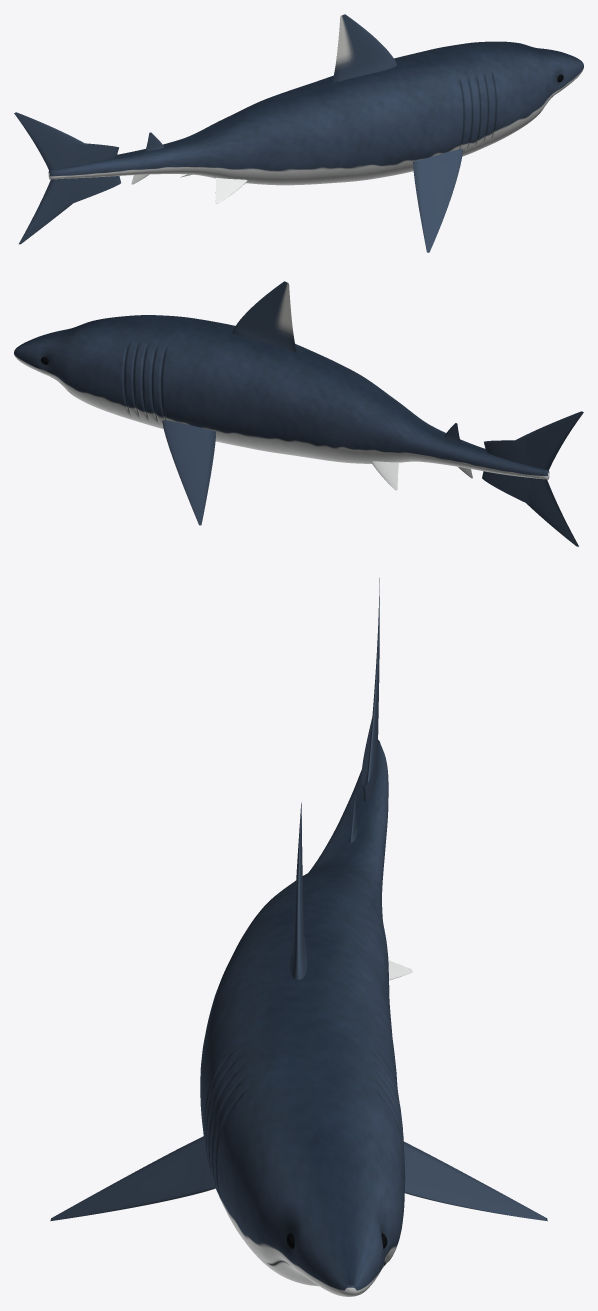
Rendered from porbeagle.glb.
3 views of the same model, one above another, from view 1: azimuth 30°, elevation 25°; view 2: azimuth 150°, elevation 25°; view 3: azimuth 270°, elevation 25° (orthographic). The views are drawn at different scales.
Parts seen in each view (by area): view 1: Porbeagle_Body, Porbeagle_Fins; view 2: Porbeagle_Body, Porbeagle_Fins; view 3: Porbeagle_Body, Porbeagle_Fins.
Part boxes in pixels (bbox=[...]): Porbeagle_Body: bbox=[48, 41, 583, 185]; Porbeagle_Fins: bbox=[14, 14, 462, 252]; Porbeagle_Body: bbox=[14, 315, 549, 479]; Porbeagle_Fins: bbox=[162, 281, 583, 546]; Porbeagle_Body: bbox=[200, 740, 405, 1296]; Porbeagle_Fins: bbox=[50, 578, 547, 1221].
Bounding box in the file's own units: 2.5 × 0.8412 × 0.9577.
3 materials, 1 textured.
